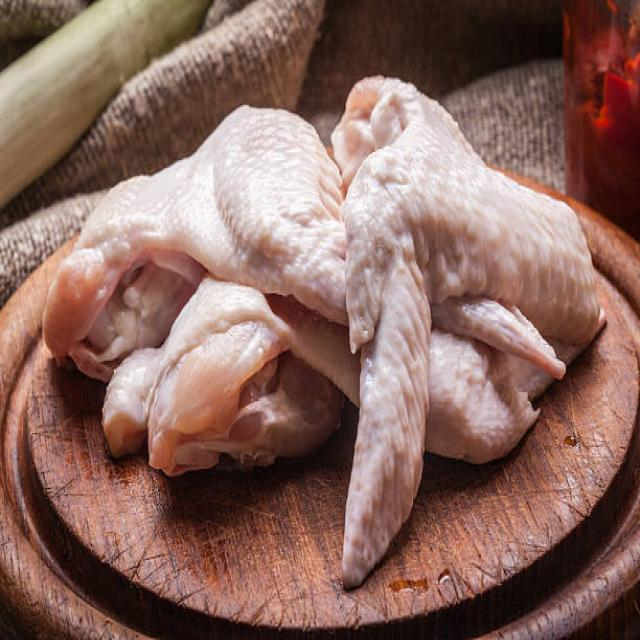Chicken: (344, 73, 594, 582)
